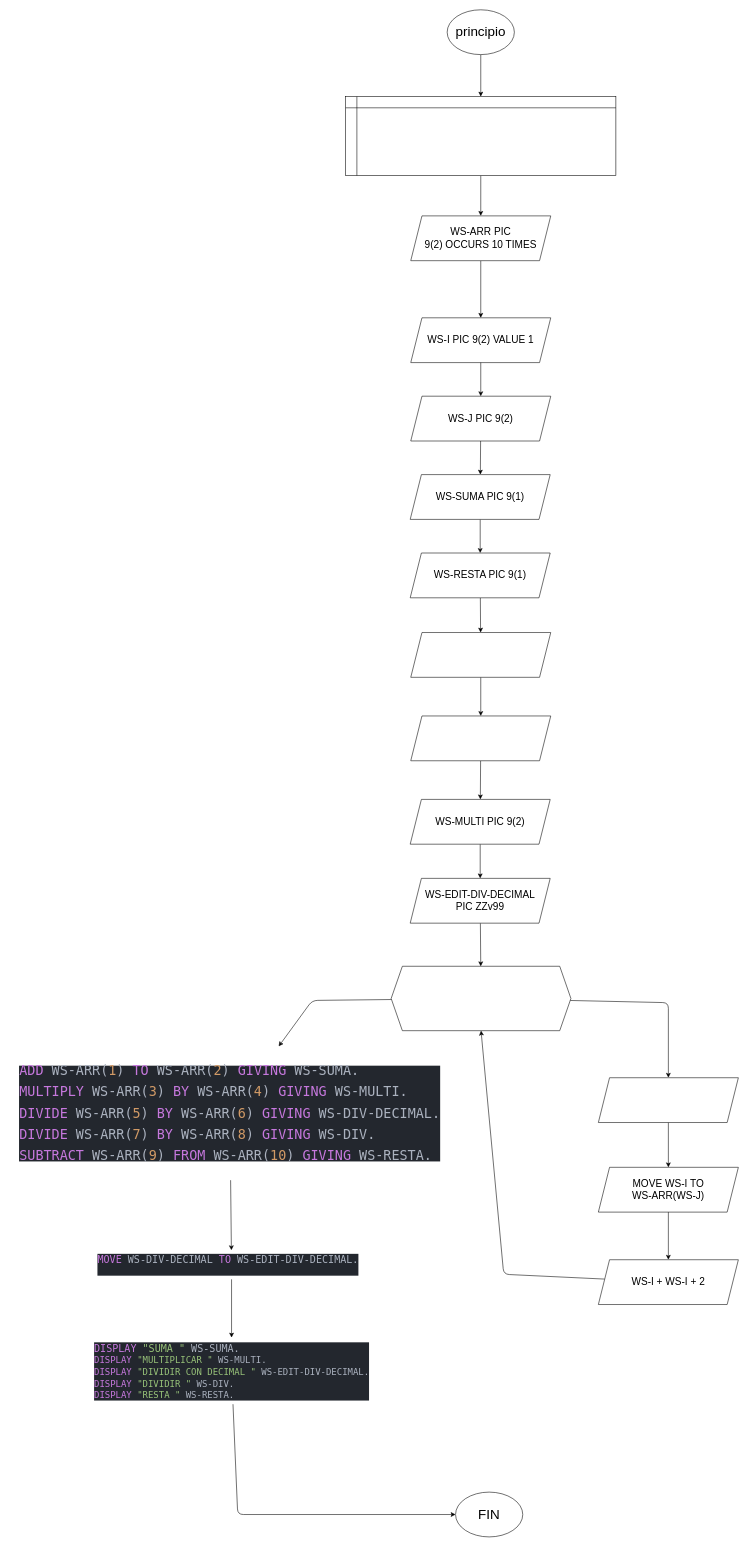
Image size: 748x1547. Some labels were removed from this diagram. Here are the shapes that lost their labels. From the top down, the centre of each, then its label:
the point at 480,136: variable WS-I WS-J WS-SUMA WS-RESTA WS-DIV WS-MULTI WS-DIV-DECIMAL
the point at 480,654: WS-DIV-DECIMAL PIC 9(2)v99
the point at 480,738: WS-DIV PIC 9(2)
the point at 481,998: WS-I < 19
the point at 668,1100: WS-J + WS-J + 1
